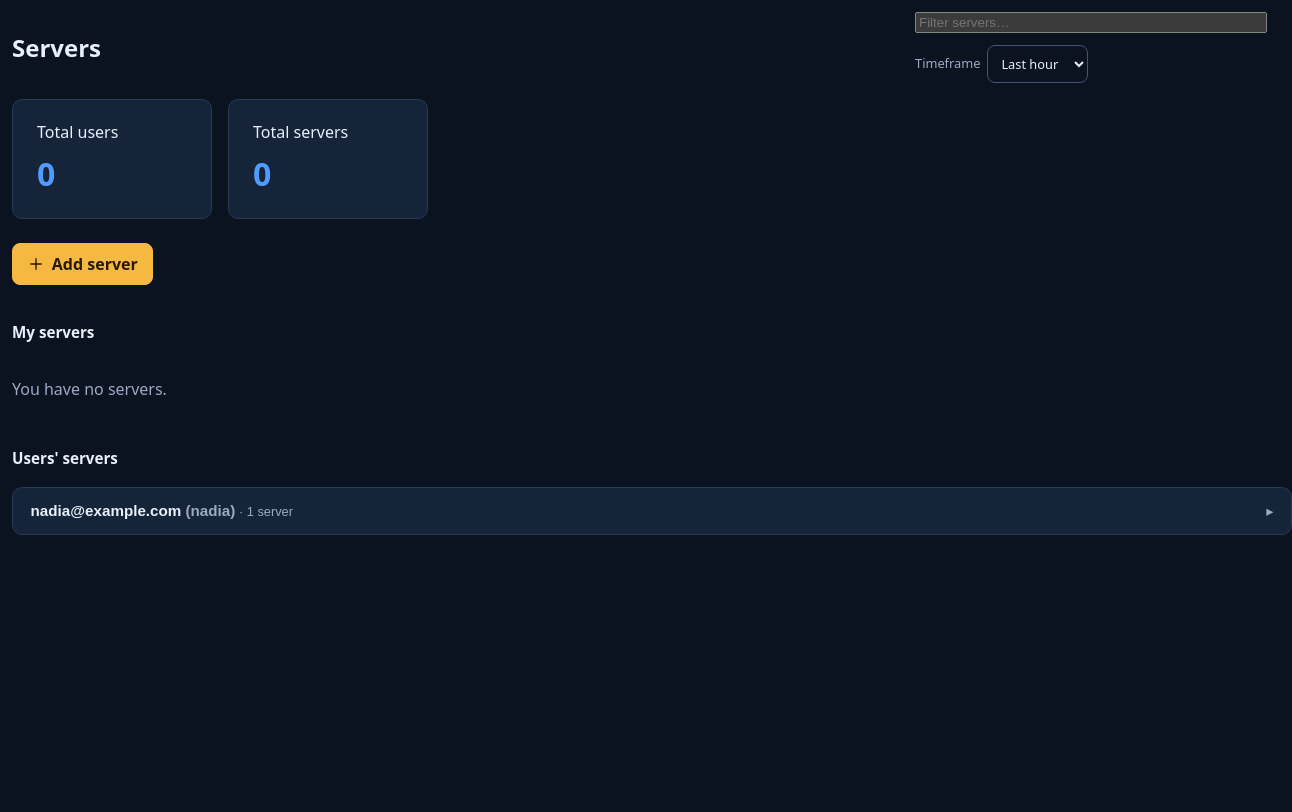
Test: ServersView › lets an admin act on any owner's servers
What coordinates should you click on to do the following:
click the button "nadia@example.com (nadia) · 1 server ▸"
I would click on:
 (106, 511)
Its box is x1=31 y1=502 x2=1273 y2=519.
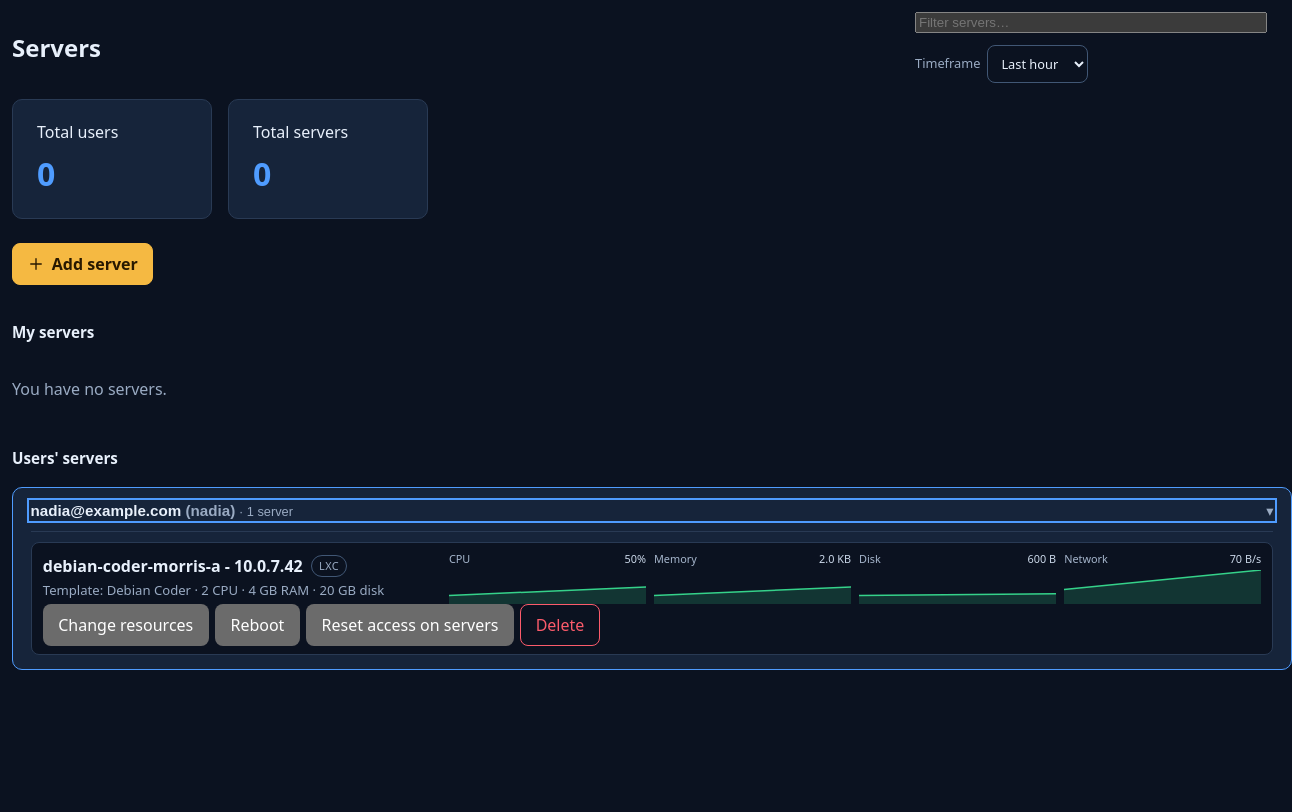
Now the button "Change resources" is shown, box x1=43 y1=604 x2=209 y2=646
Now the button "Reboot" is shown, box x1=215 y1=604 x2=300 y2=646
